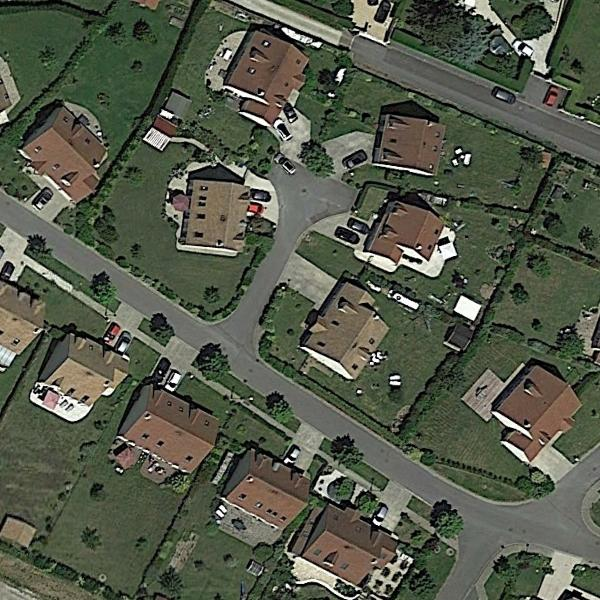Buildings: (494, 359, 585, 454), (224, 35, 298, 112), (311, 291, 378, 370), (225, 459, 298, 530), (307, 514, 384, 580), (187, 177, 247, 255), (30, 122, 95, 192), (133, 402, 209, 461), (47, 343, 119, 402), (374, 202, 437, 267), (378, 117, 445, 171), (0, 294, 39, 354)
